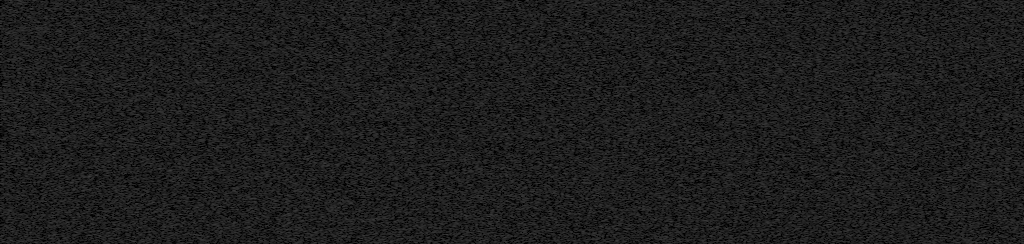wv_am: (335, 0, 341, 244), (598, 0, 603, 244)
wv_lsb: (656, 221, 662, 230), (657, 118, 662, 126), (657, 188, 661, 196), (656, 14, 662, 19), (657, 153, 661, 159), (658, 49, 661, 56), (658, 84, 661, 87), (658, 61, 661, 64), (658, 57, 661, 60)
